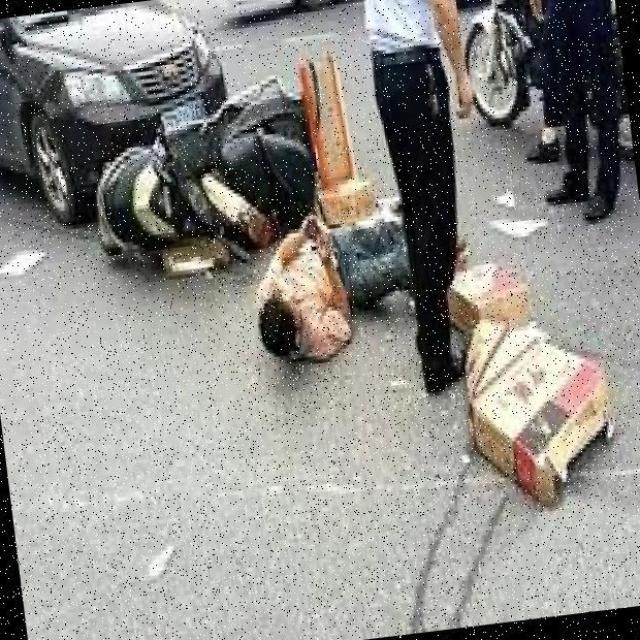accident: (24, 0, 368, 290)
